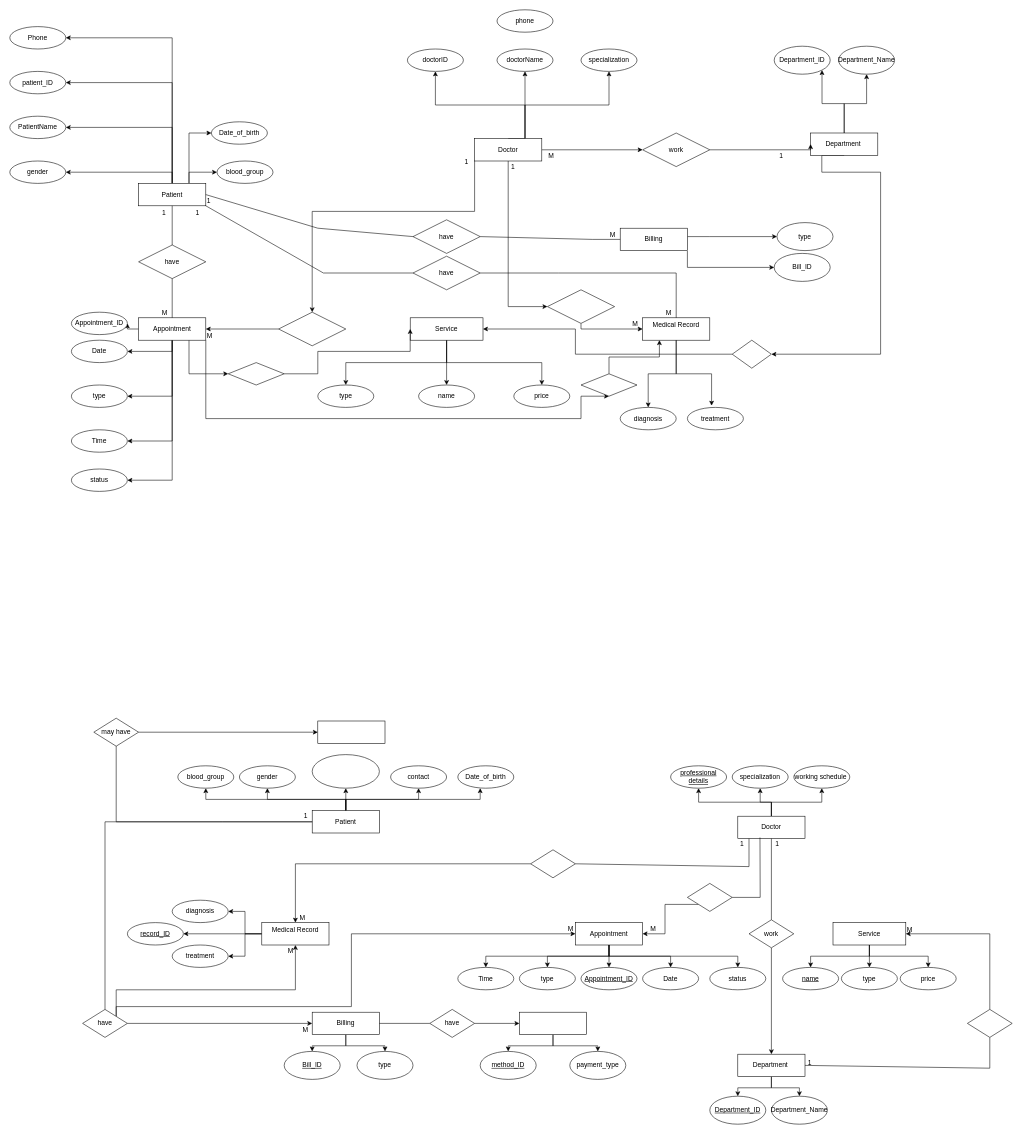
Image size: 1022x1134. Some labels were removed from this diagram. Here are the shapes that lost their labels. From the top down, the centre of each, then its label:
At point (581, 306): "create".
At point (312, 329): "handle".
At point (256, 373): "may include".
At point (751, 354): "offer".
At point (608, 384): "may result".
At point (351, 731): "Insurance".
At point (345, 771): "personal_information".
At point (552, 863): "Creates".
At point (709, 897): "handels".
At point (553, 1023): "Payment_method".
At point (989, 1023): "offers".
